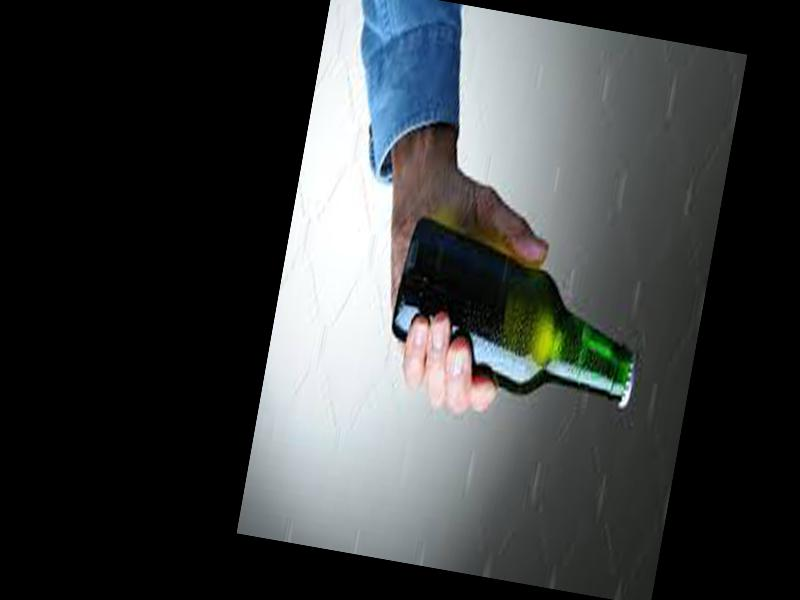Beer: (384, 212, 652, 420)
